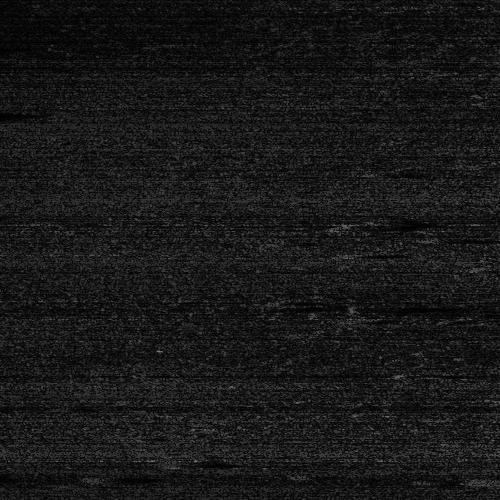object: (343, 219, 406, 230), (338, 302, 401, 309), (83, 472, 124, 479), (153, 460, 206, 465), (468, 476, 500, 481)
shadow: (0, 106, 74, 119), (375, 219, 437, 230), (104, 472, 166, 479), (370, 302, 432, 309), (180, 460, 248, 465), (0, 471, 47, 478)
